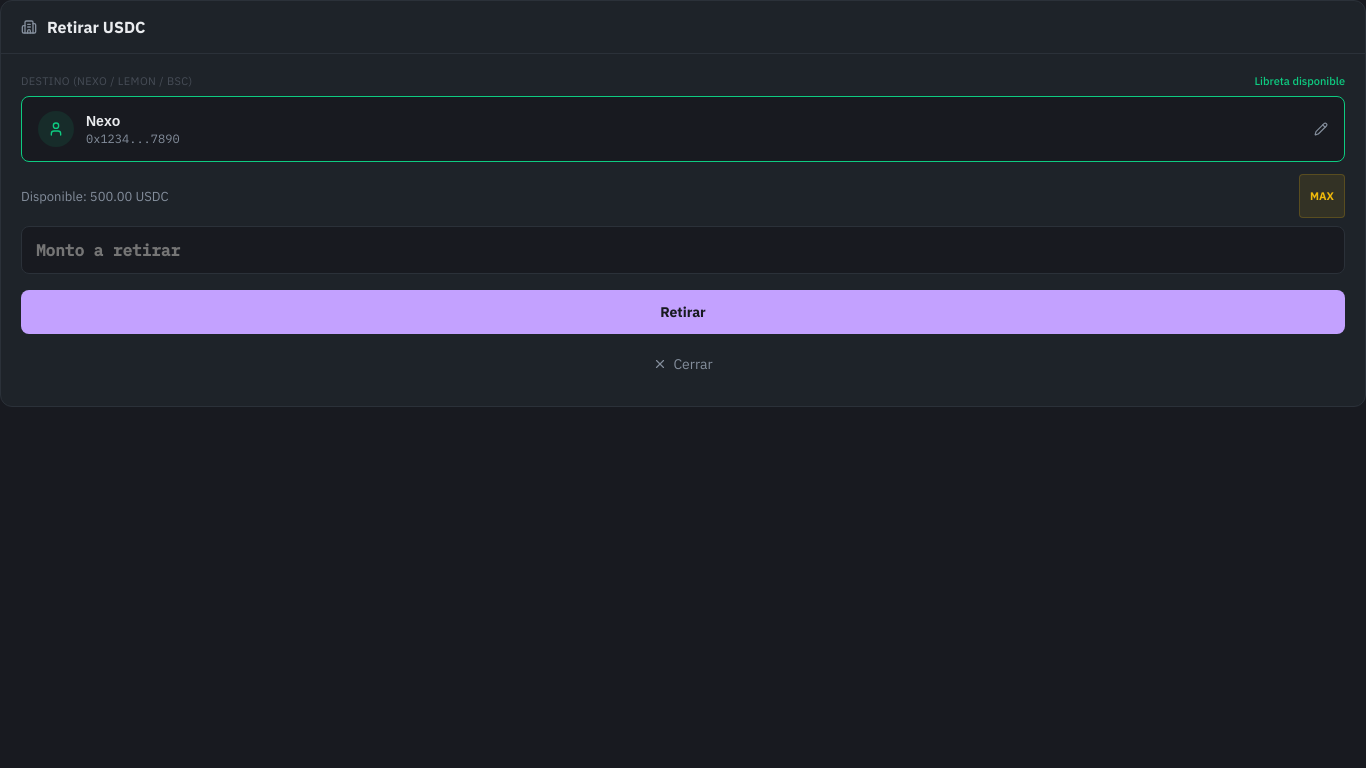
Test case: Withdraw Component › handleWithdraw — API › API éxito: muestra mensaje de éxito
Type "100" into the number field with placeholder "Monto a retirar" at (683, 250), box [21,226,1345,274]
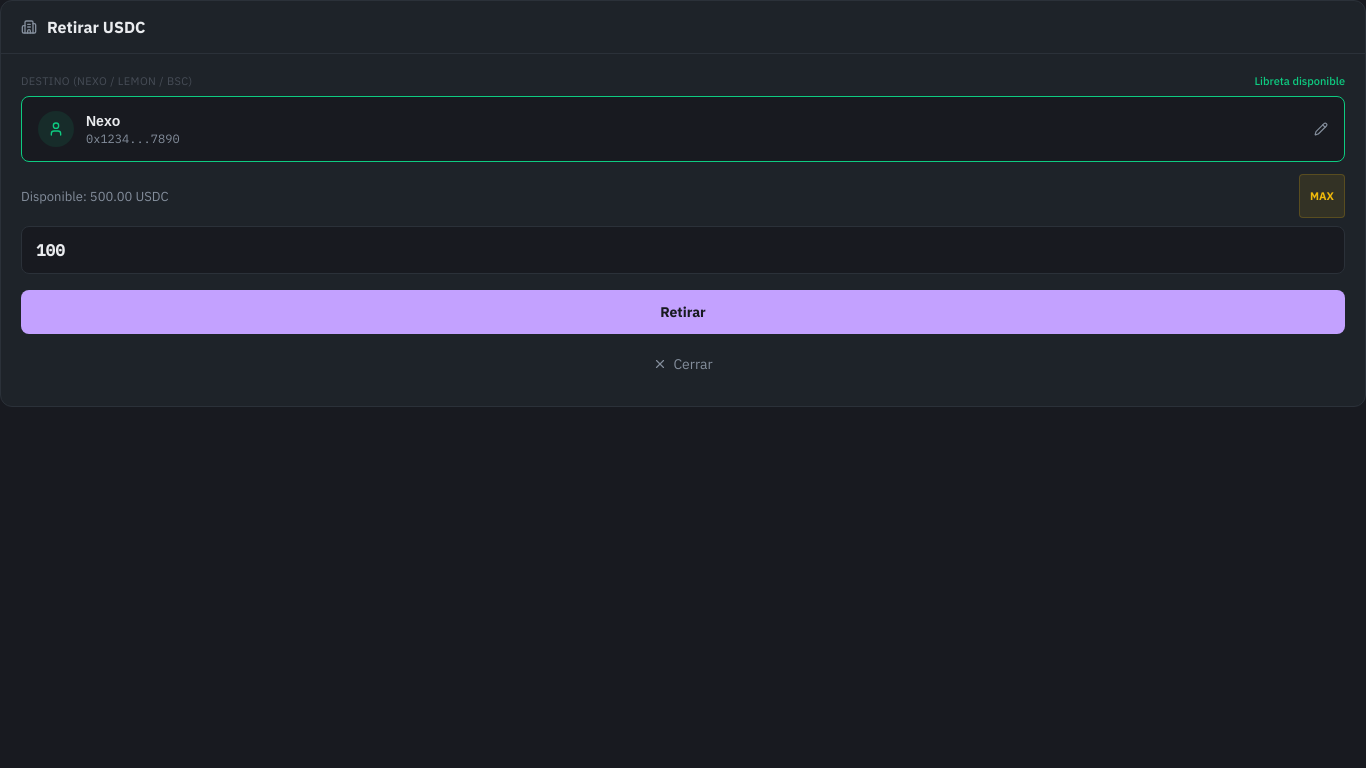
Click the button "Retirar" at (683, 312), box [21,290,1345,334]
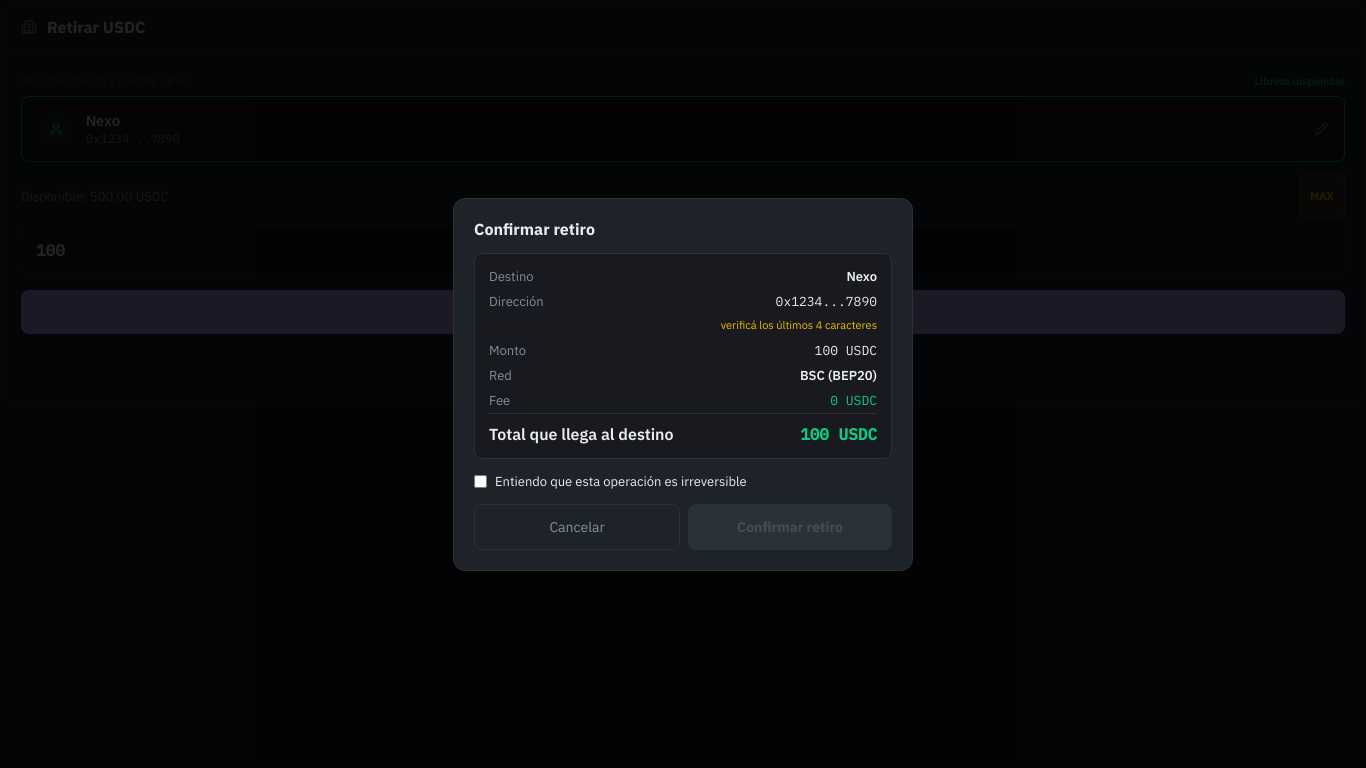
Click the checkbox labelled "Entiendo que esta operación es irreversible" at (480, 481), box [474,474,487,488]
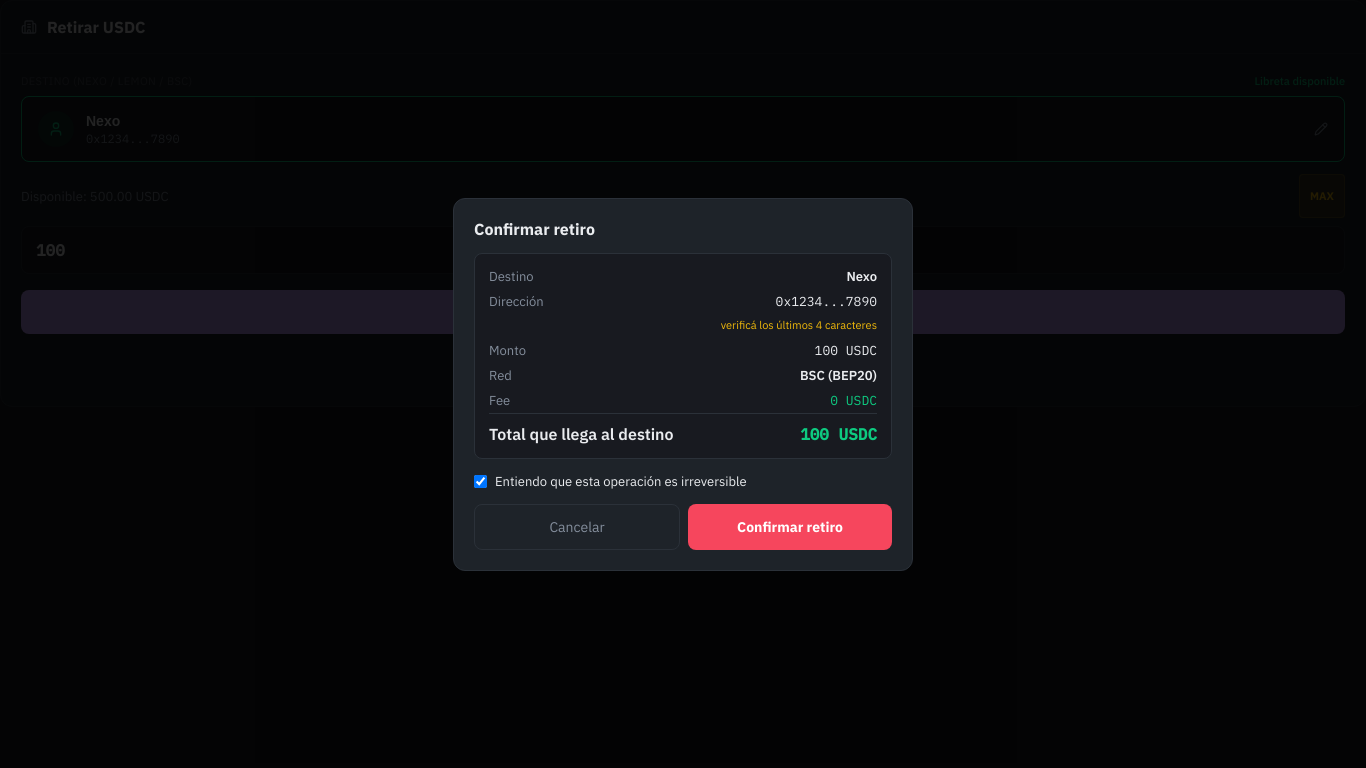
Click the button "Confirmar retiro" at (790, 526), box [688,504,892,550]
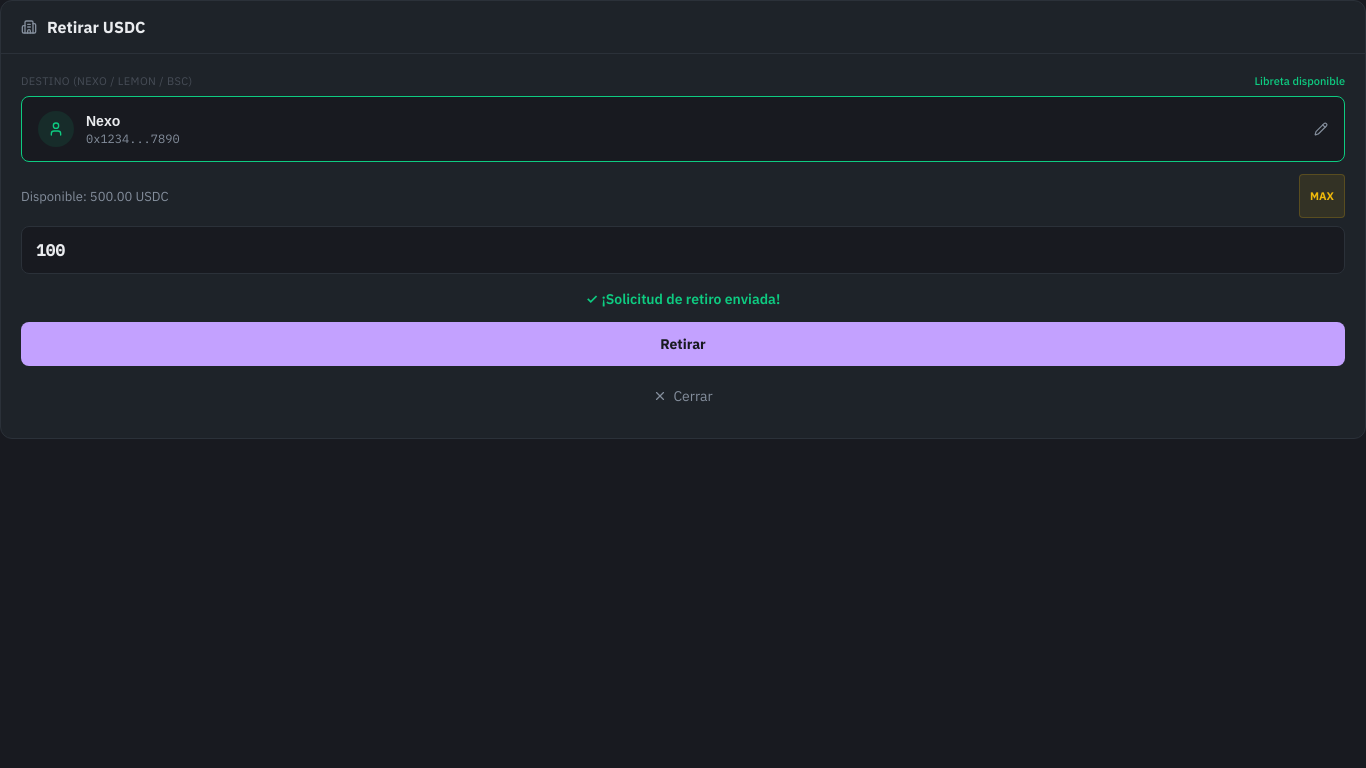
Check: the text "✓ ¡Solicitud de retiro enviada!" is shown, box [586,290,780,308]
